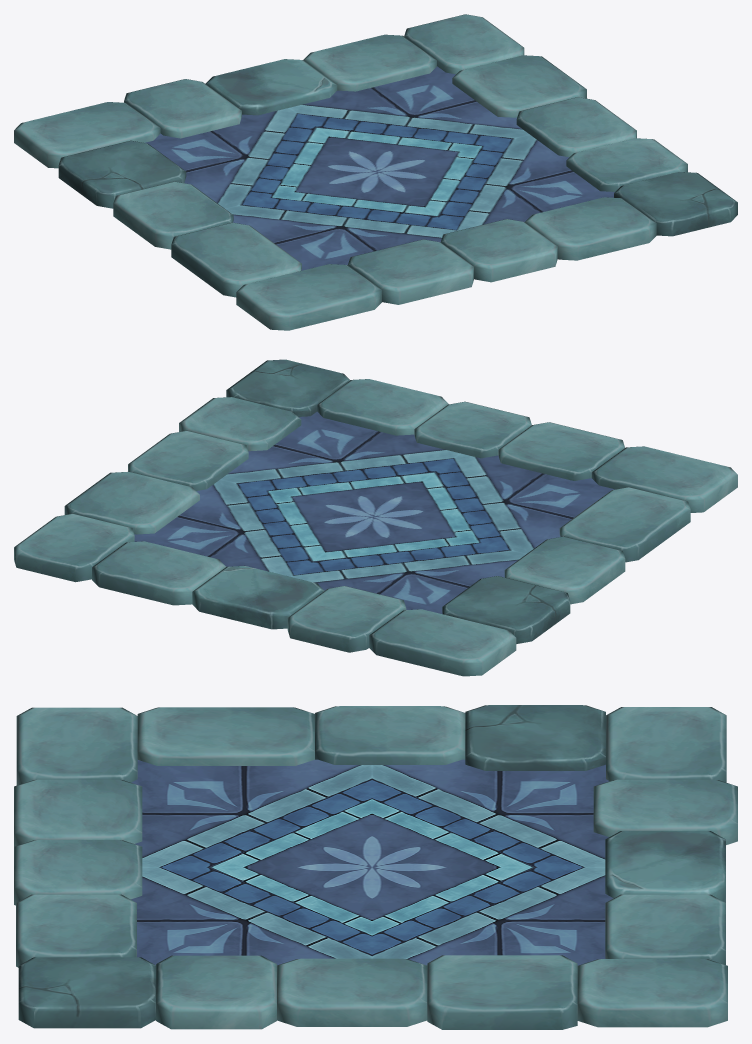
Rendered from stoneGround.fbx.
The picture shows the model from 3 angles, top to bottom: view 1: azimuth 30°, elevation 25°; view 2: azimuth 150°, elevation 25°; view 3: azimuth 270°, elevation 25°; orthographic projection. The views are drawn at different scales.
Visible parts, largest first — view 1: polySurface1613; view 2: polySurface1613; view 3: polySurface1613.
Part boxes in pixels (bbox=[...]): polySurface1613: bbox=[14, 14, 737, 330]; polySurface1613: bbox=[14, 359, 737, 676]; polySurface1613: bbox=[14, 705, 737, 1029].
Size of the model in its own units: 4.76 by 0.1458 by 4.73.
